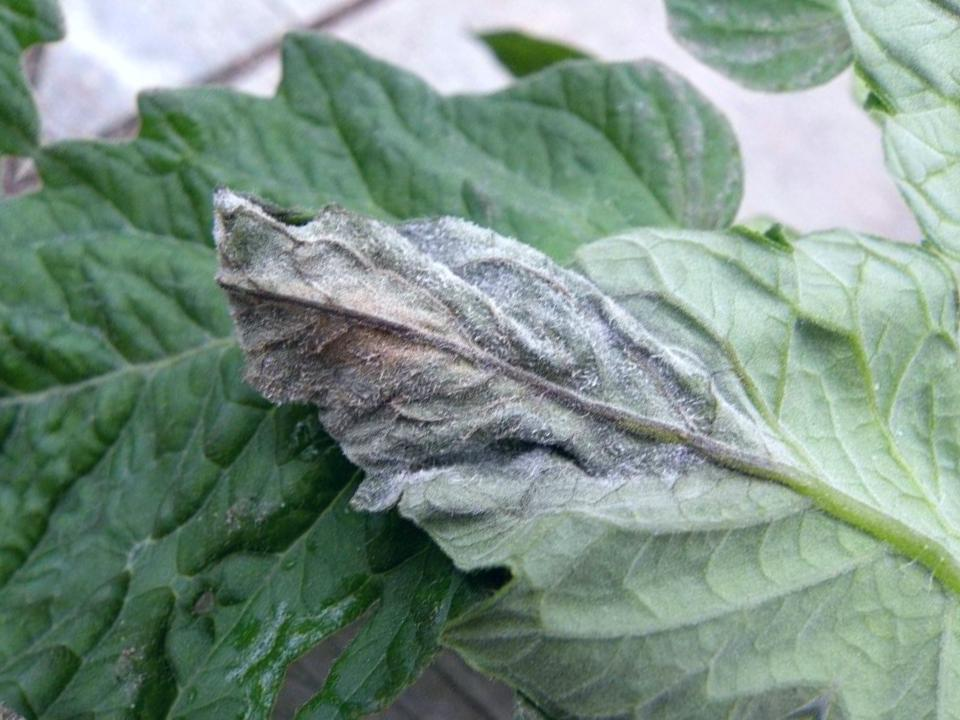Tomato leaf late blight: (67, 0, 960, 720)
